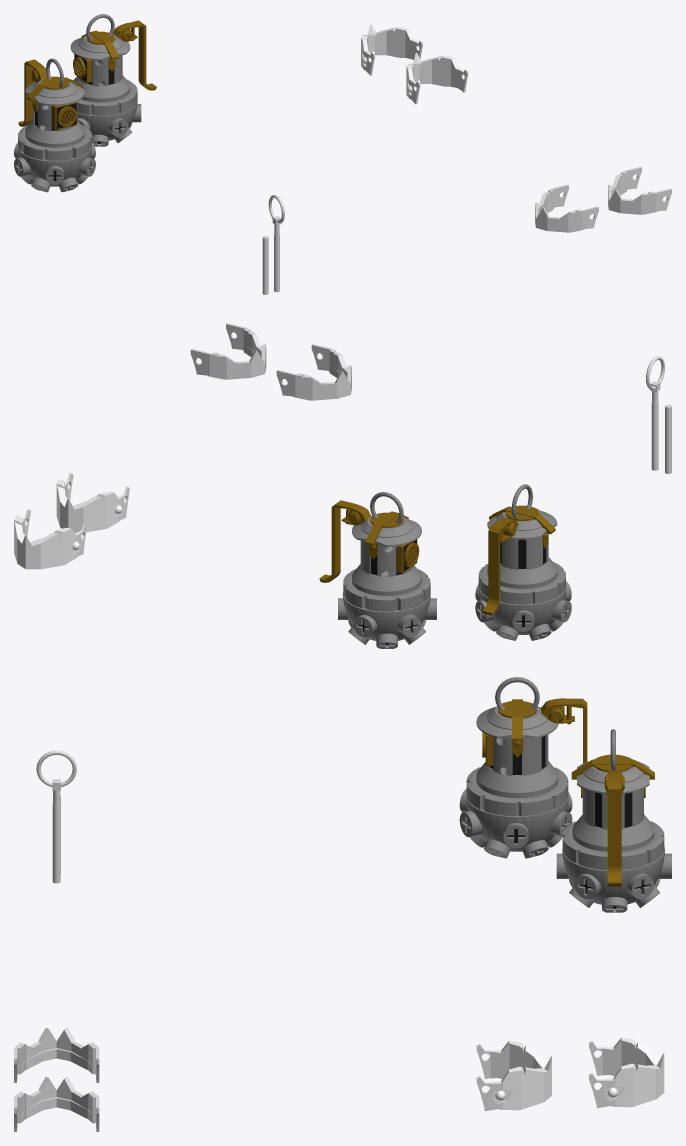
The model's file is g-jinx.glb.
3 renders of one model, top to bottom at view 1: azimuth 30°, elevation 25°; view 2: azimuth 150°, elevation 25°; view 3: azimuth 270°, elevation 25°, orthographic. The views are drawn at different scales.
Visible parts, largest first — view 1: 3MF Object, 3MF Object.001, 3MF Object.004; view 2: 3MF Object, 3MF Object.001, 3MF Object.004; view 3: 3MF Object, 3MF Object.004, 3MF Object.001.
Part boxes in pixels (x1,y1,x2,y2): 3MF Object: (14,14,268,294); 3MF Object.001: (268,166,671,292); 3MF Object.004: (361,24,468,104); 3MF Object: (319,404,671,648); 3MF Object.001: (190,323,664,470); 3MF Object.004: (14,473,129,569); 3MF Object: (60,677,671,912); 3MF Object.004: (476,1037,664,1111); 3MF Object.001: (14,750,99,1131).
Bounding box in the file's own units: 0.4454 × 0.1103 × 0.392.
2 materials, 2 textured.
